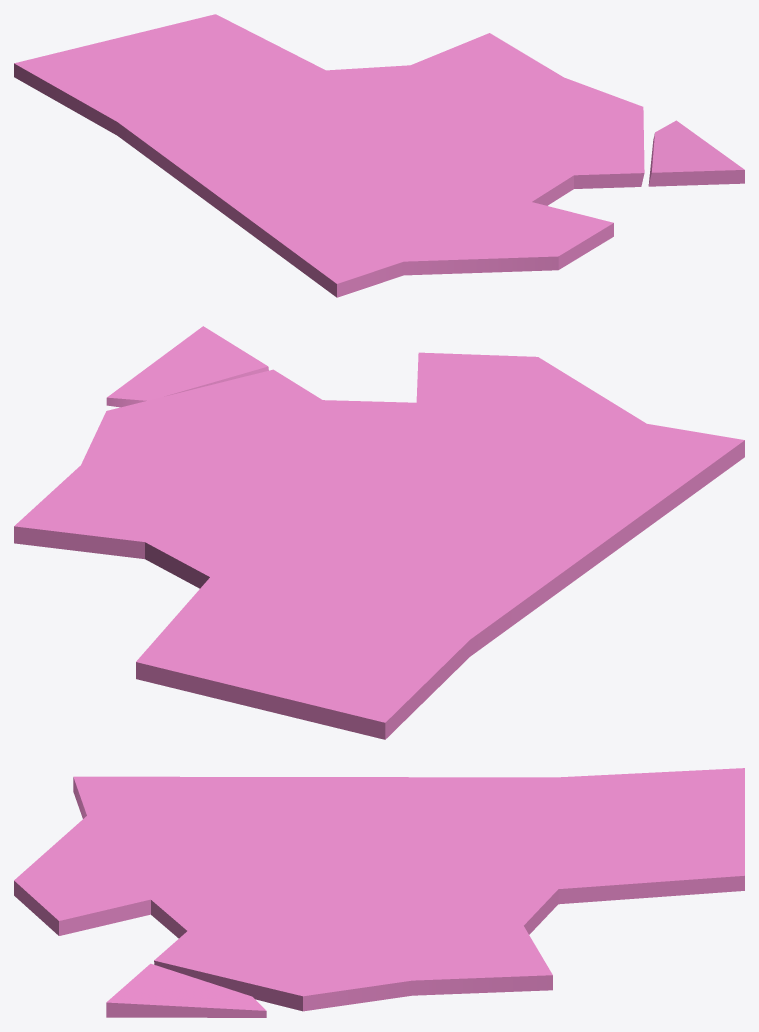
Rendered from AntagonistPersecution_Init.FBX.
3 renders of one model, top to bottom at view 1: azimuth 30°, elevation 25°; view 2: azimuth 150°, elevation 25°; view 3: azimuth 270°, elevation 25°, orthographic. The views are drawn at different scales.
Visible parts, largest first — view 1: RoomFinal_AntagonistPersecution_Init; view 2: RoomFinal_AntagonistPersecution_Init; view 3: RoomFinal_AntagonistPersecution_Init.
Part boxes in pixels (left/top/right/bottom): RoomFinal_AntagonistPersecution_Init: left=14, top=14, right=744, bottom=297; RoomFinal_AntagonistPersecution_Init: left=14, top=326, right=744, bottom=739; RoomFinal_AntagonistPersecution_Init: left=14, top=768, right=744, bottom=1017.
Size of the model in its own units: 710 by 926 by 21.1.
